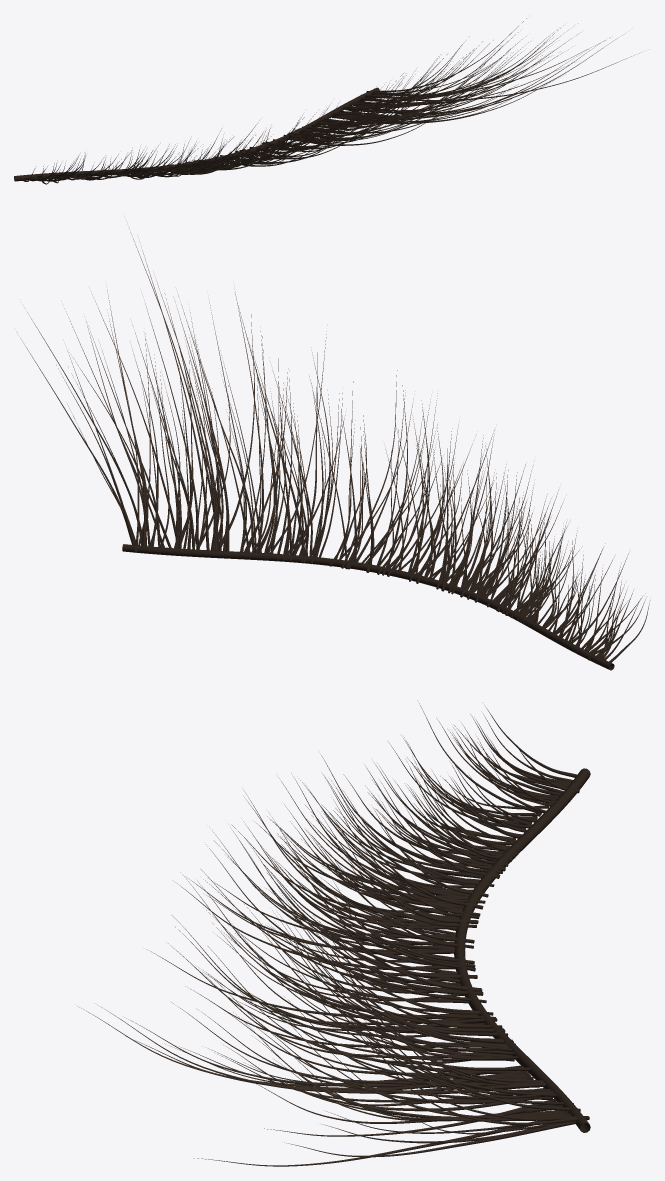
File: foxy_intense_right.glb
3 views of the same model, one above another, from view 1: azimuth 30°, elevation 25°; view 2: azimuth 150°, elevation 25°; view 3: azimuth 270°, elevation 25° (orthographic). The views are drawn at different scales.
Parts seen in each view (by area): view 1: foxy_intense_right; view 2: foxy_intense_right; view 3: foxy_intense_right.
Boxes of the visible parts, box(x1,y1,x2,y2) form: foxy_intense_right: box(14, 18, 639, 184); foxy_intense_right: box(20, 228, 650, 670); foxy_intense_right: box(78, 700, 590, 1166).
Bounding box in the file's own units: 4.48 × 0.9976 × 1.85.
